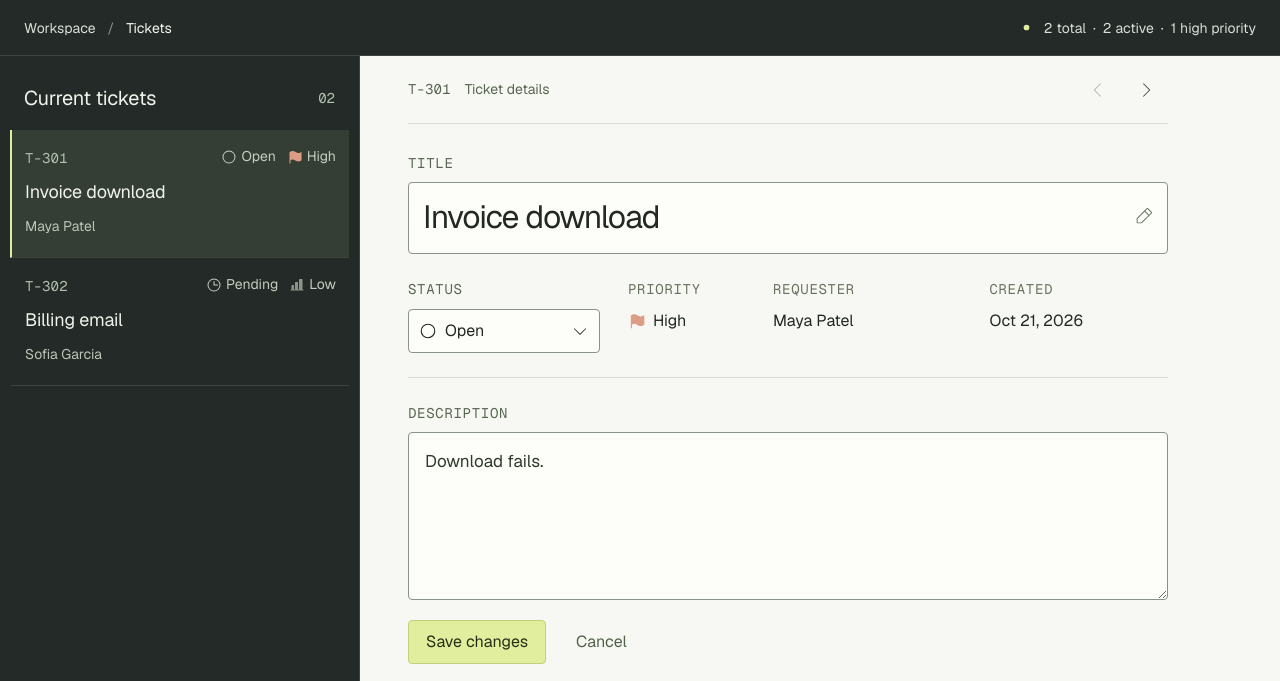
Test: ticket workspace › shows unsaved changes for a restored draft and clears the indicator after cancel or save
Check: the text "Unsaved changes" is not shown
Replace the text in the text box labelled "Title" with "Invoice draft" at (788, 218), box [408,182,1168,254]
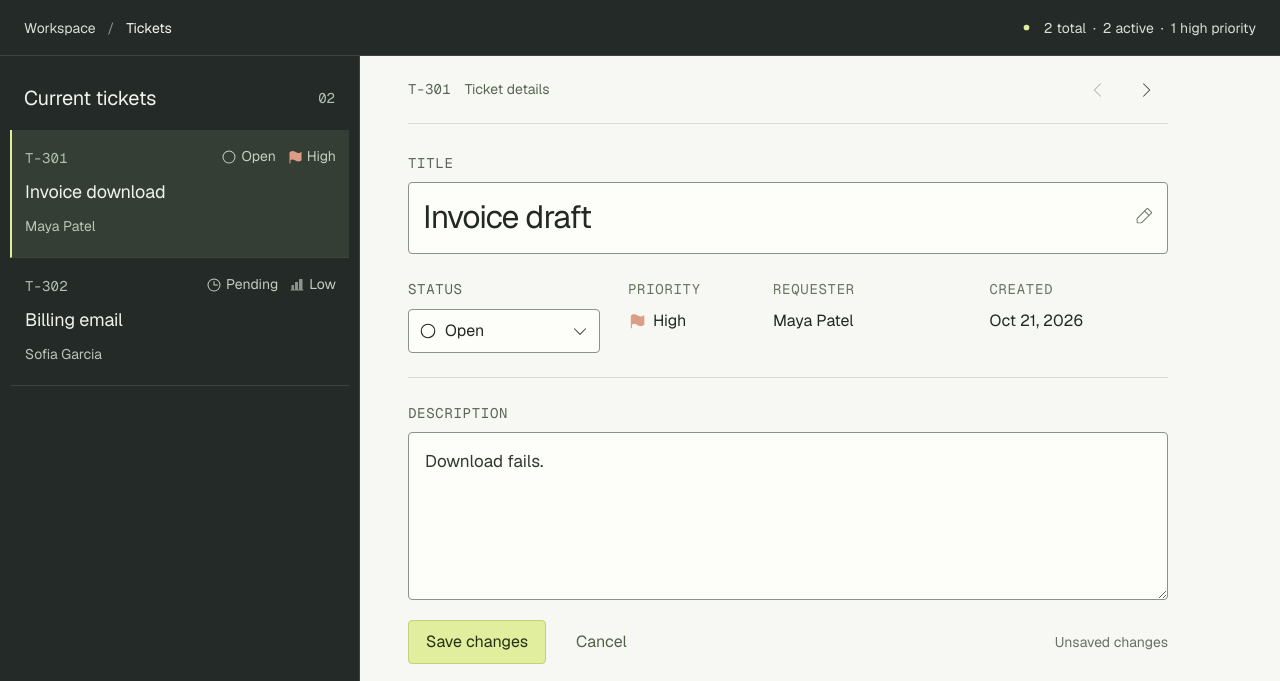
Click the button named "Next ticket" at (1146, 90), box [1124,68,1168,112]
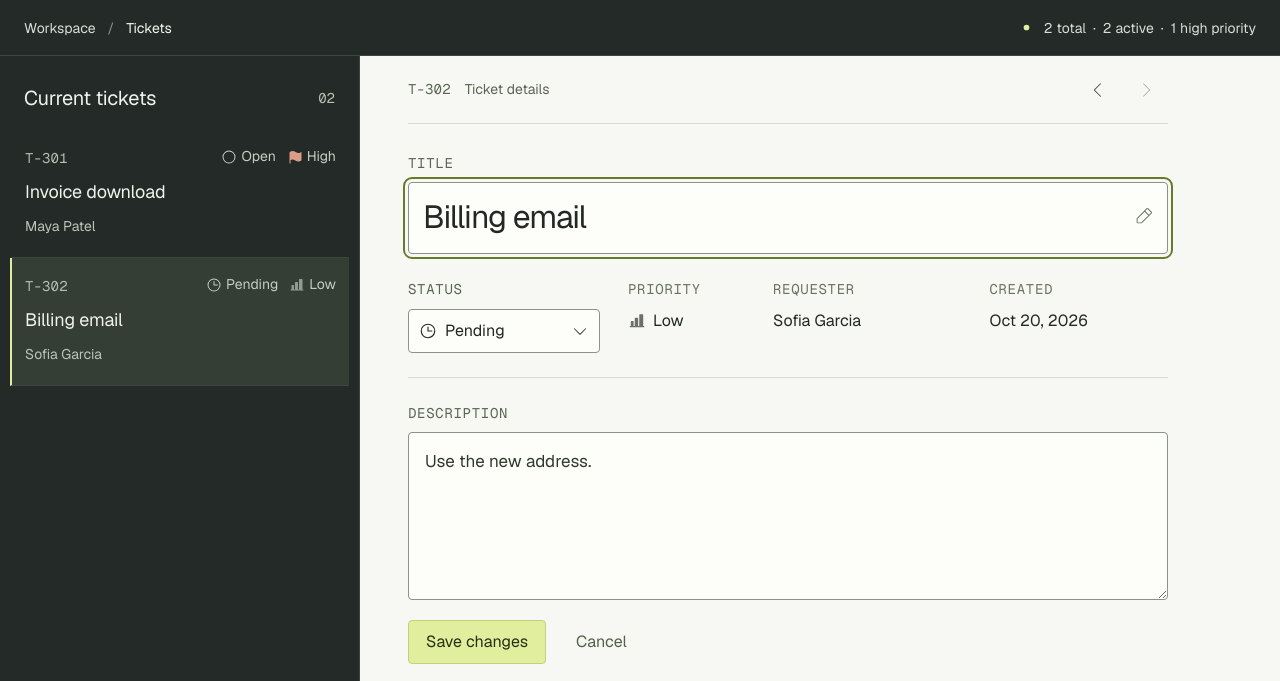
Check: the text "Unsaved changes" is gone
Click the button named "Previous ticket" at (1098, 90), box [1076,68,1120,112]
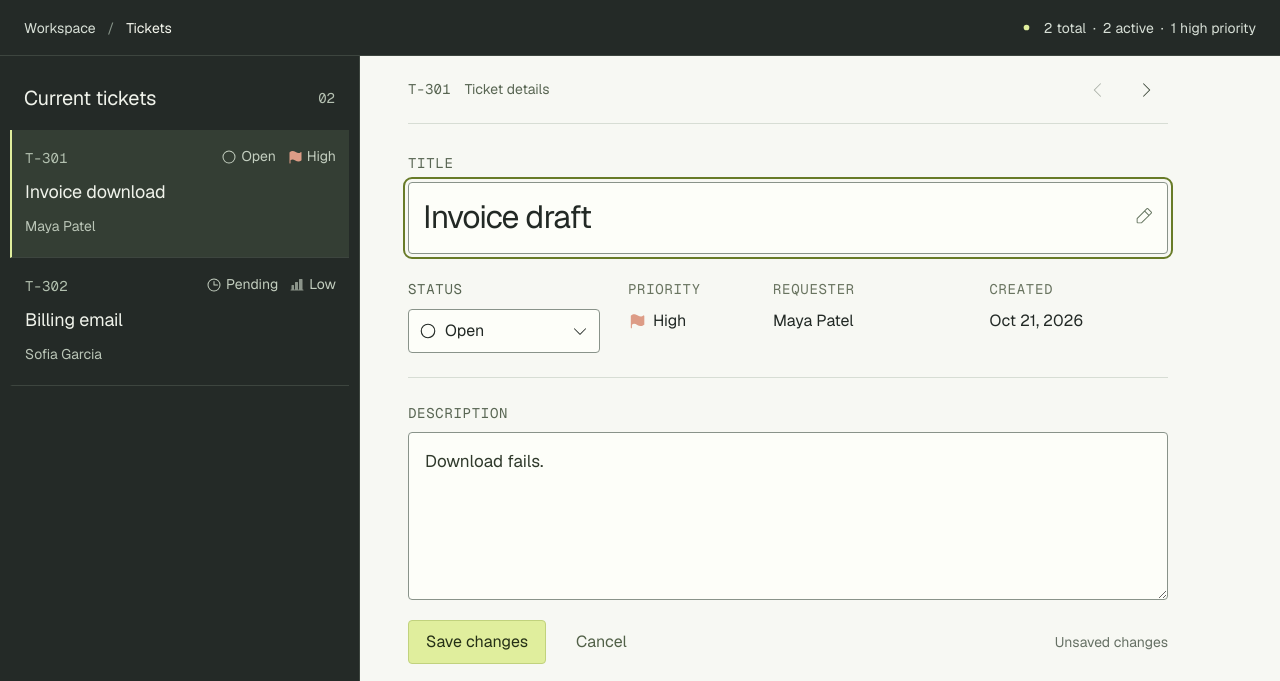
Check: the text "Unsaved changes" is shown, box [1055,632,1168,653]
Click the button "Cancel" at (601, 642), box [558,620,645,664]
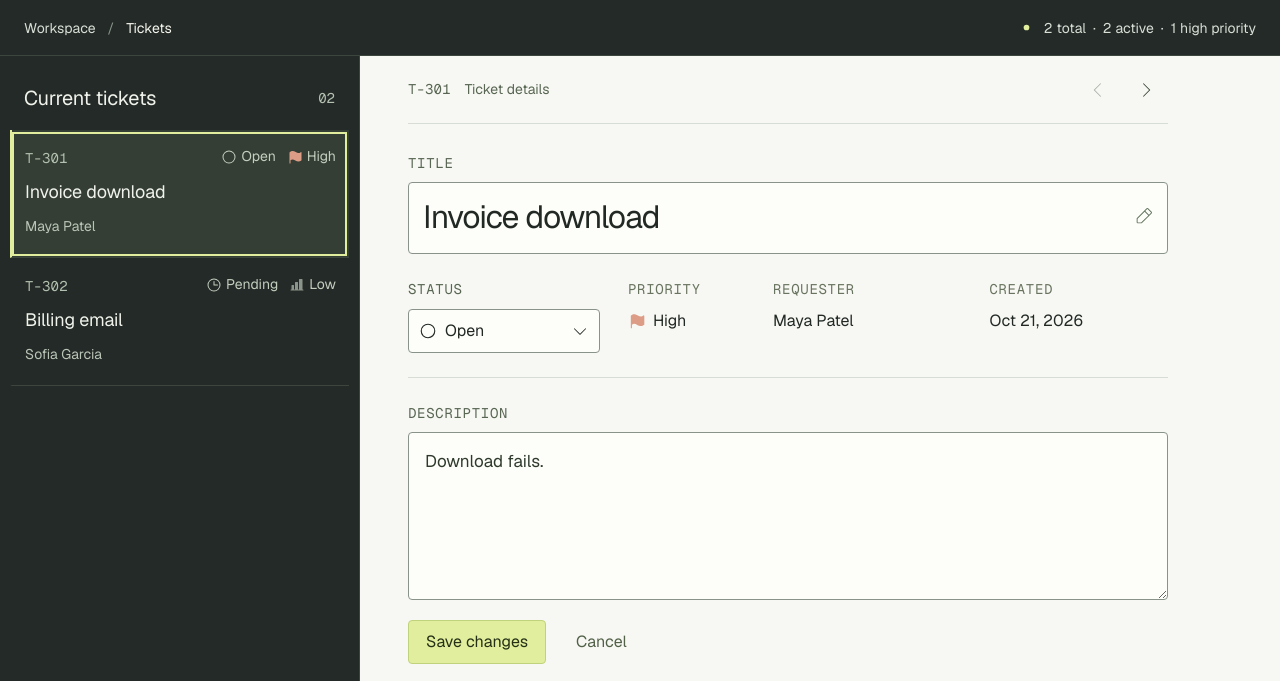
Check: the text "Unsaved changes" is gone
Replace the text in the text box labelled "Title" with "Saved invoice" at (788, 218), box [408,182,1168,254]
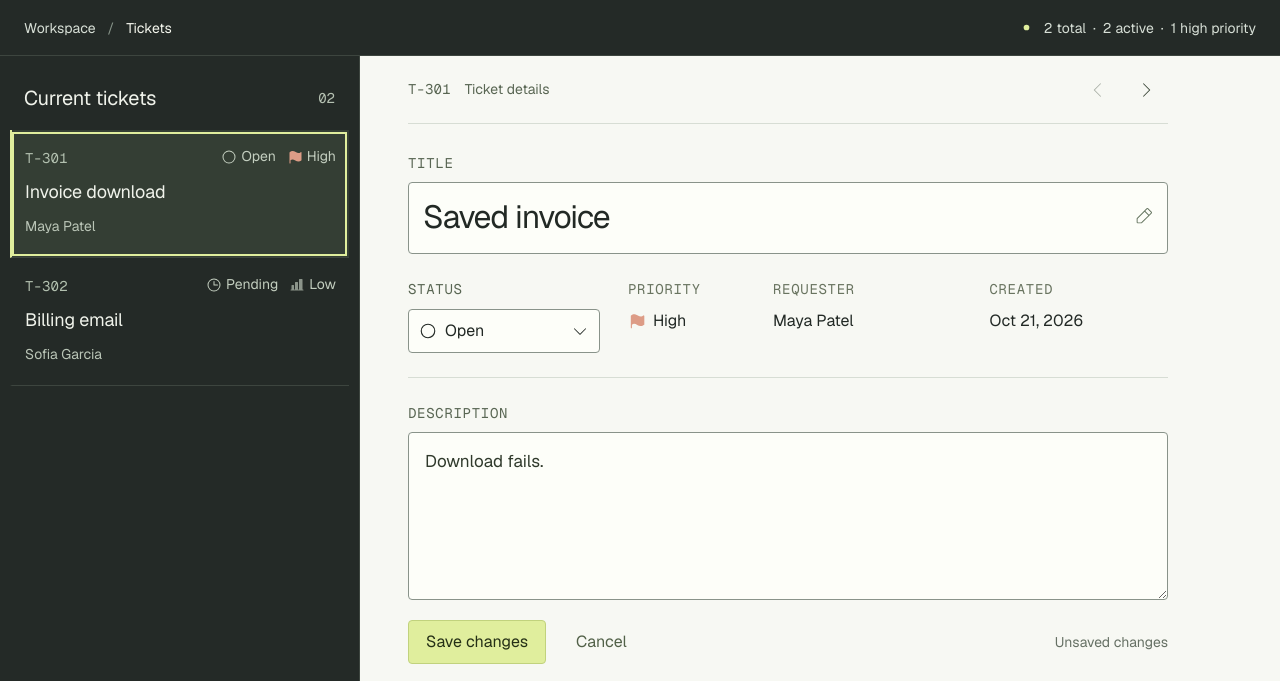
Click the button "Save changes" at (477, 642), box [408,620,546,664]
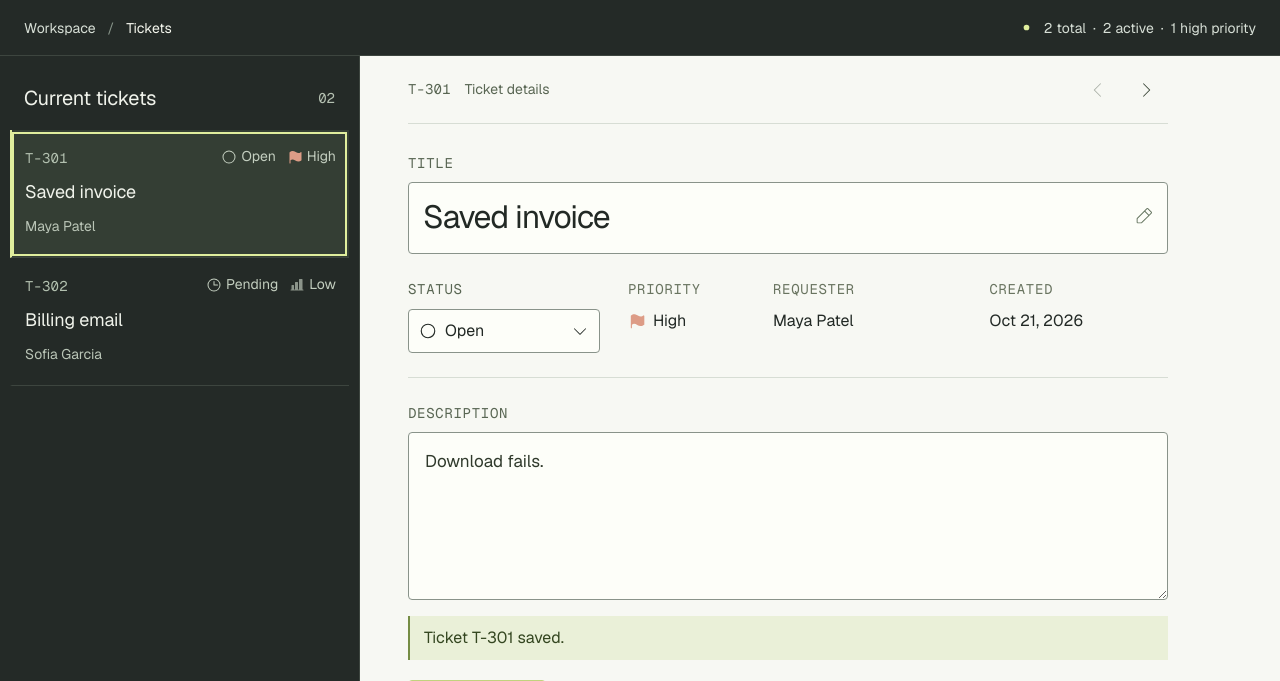
Check: the message "Ticket T-301 saved." is shown, box [408,616,1168,660]
Check: the text "Unsaved changes" is gone
